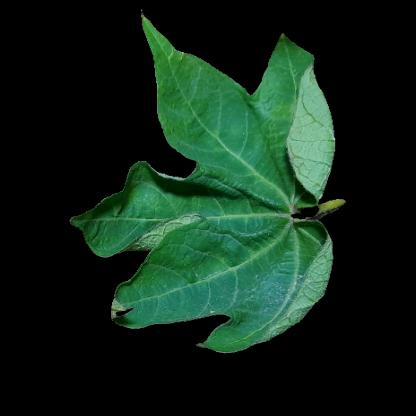curl_stage1: (178, 118, 239, 152)
curl_stage2: (272, 94, 323, 194), (270, 240, 328, 314), (126, 208, 208, 254)
healthy: (152, 292, 209, 323)
